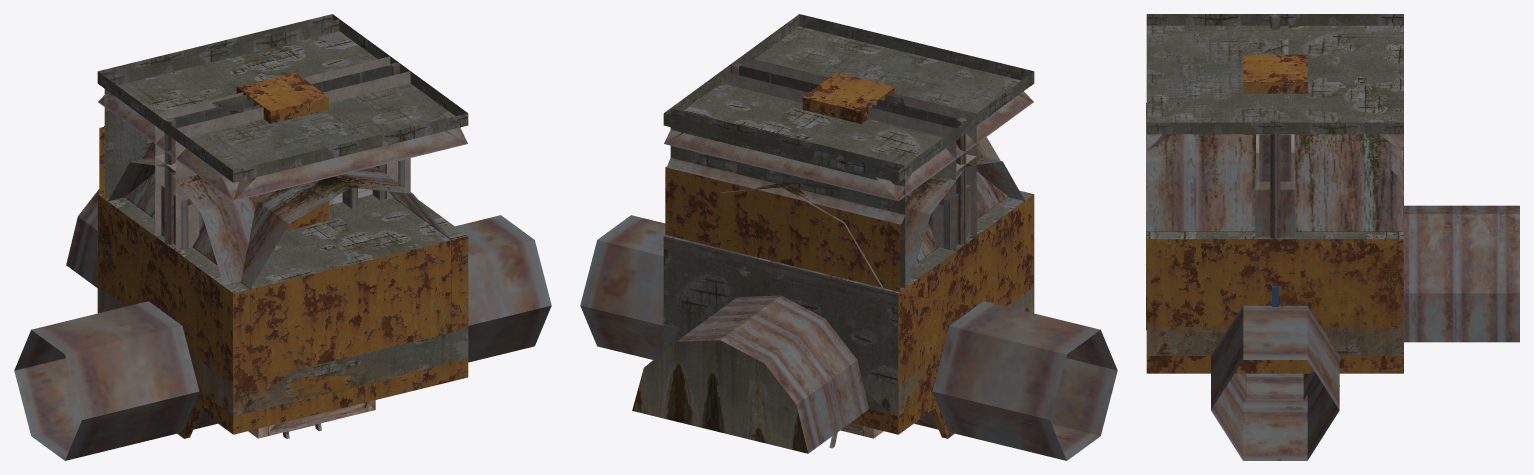
File: ModularSewerKit.fbx_Collection.fbx
3 renders of one model, left to right at view 1: azimuth 30°, elevation 25°; view 2: azimuth 150°, elevation 25°; view 3: azimuth 270°, elevation 25°, orthographic. The views are drawn at different scales.
Visible parts, largest first — view 1: Floor011, Pipe004, Ceiling001, Ceiling005, Ceiling002, Tunnel002, Tunnel001, Floor007, Ceiling004, CatWalk001, Ceiling006, Stairs001 (+19 smaller); view 2: Pipe004, PlugWall003, Floor011, Wall002, Ceiling001, Ceiling002, Ceiling003, Stairs001, Ceiling005, Trim003, Tunnel002, Trim004 (+14 smaller); view 3: Floor011, Tunnel001, PlugWall003, Pipe004, Ceiling001, Ceiling005, Stairs001, Ceiling006, Ceiling002, Ceiling004, Ceiling007, CatWalk001 (+10 smaller).
Boxes of the visible parts, <box> form: Floor011: <box>97,194,468,415</box>; Pipe004: <box>14,215,551,460</box>; Ceiling001: <box>97,14,467,182</box>; Ceiling005: <box>100,31,467,200</box>; Ceiling002: <box>98,25,467,181</box>; Tunnel002: <box>108,156,451,402</box>; Tunnel001: <box>125,142,411,287</box>; Floor007: <box>239,328,468,414</box>; Ceiling004: <box>191,47,467,201</box>; CatWalk001: <box>197,359,468,434</box>; Ceiling006: <box>98,14,468,182</box>; Stairs001: <box>97,194,232,415</box>; Pipe004: <box>580,215,1117,460</box>; PlugWall003: <box>632,295,868,453</box>; Floor011: <box>663,190,1034,415</box>; Wall002: <box>665,110,905,291</box>; Ceiling001: <box>663,14,1034,182</box>; Ceiling002: <box>664,14,1033,200</box>; Ceiling003: <box>664,15,1033,201</box>; Stairs001: <box>663,236,974,415</box>; Ceiling005: <box>683,83,1033,194</box>; Trim003: <box>721,56,976,171</box>; Tunnel002: <box>905,137,1024,285</box>; Trim004: <box>742,56,976,250</box>; Floor011: <box>1146,151,1403,355</box>; Tunnel001: <box>1147,134,1402,231</box>; PlugWall003: <box>1404,205,1519,342</box>; Pipe004: <box>1211,305,1339,460</box>; Ceiling001: <box>1146,14,1403,134</box>; Ceiling005: <box>1146,25,1403,151</box>; Stairs001: <box>1148,239,1403,355</box>; Ceiling006: <box>1146,14,1403,151</box>; Ceiling002: <box>1146,14,1403,151</box>; Ceiling004: <box>1172,39,1374,134</box>; Ceiling007: <box>1172,25,1314,122</box>; CatWalk001: <box>1146,356,1403,373</box>.
Size of the model in its own units: 800 by 532 by 581.
